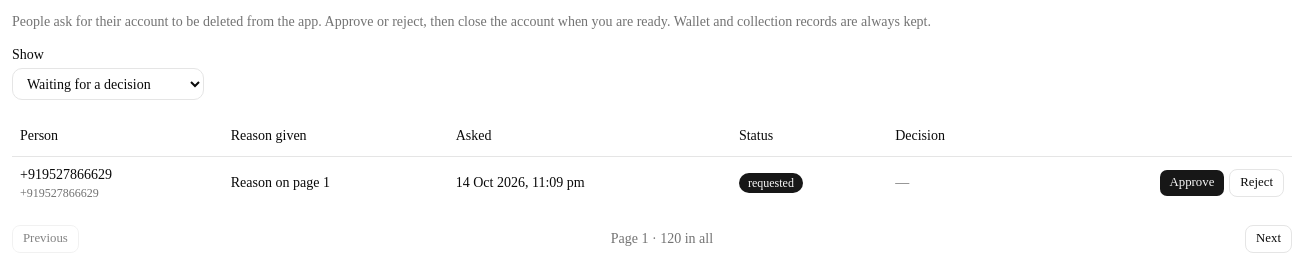
Test: DeletionTab paging › shows the first page and can go forward and back through the queue
The image size is (1304, 273).
Expected: the text "Reason on page 1" is shown, [223,156,448,208]
Expected: the button "Previous" is disabled, [12,224,79,252]
What coordinates should you click on to do the following:
click the button "Next"
I would click on:
 (1269, 238)
Its box is [1245,224,1292,252].
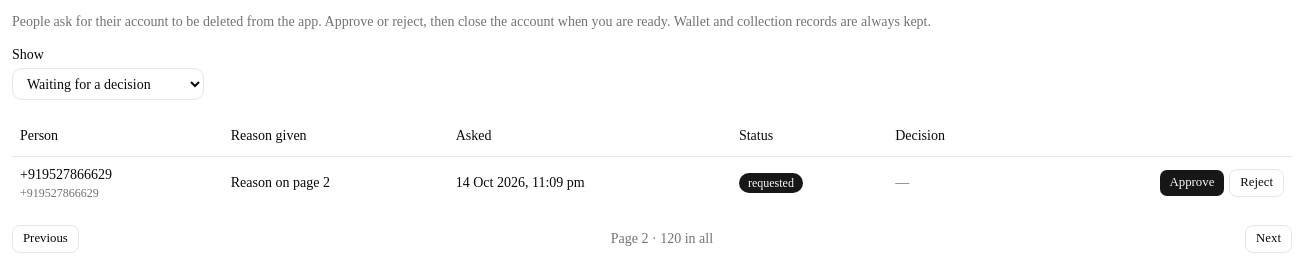
Now the text "Reason on page 2" is shown, box [223,156,448,208]
What coordinates should you click on to do the following:
click the button "Next"
I would click on:
 (1269, 238)
Its box is [1245,224,1292,252].
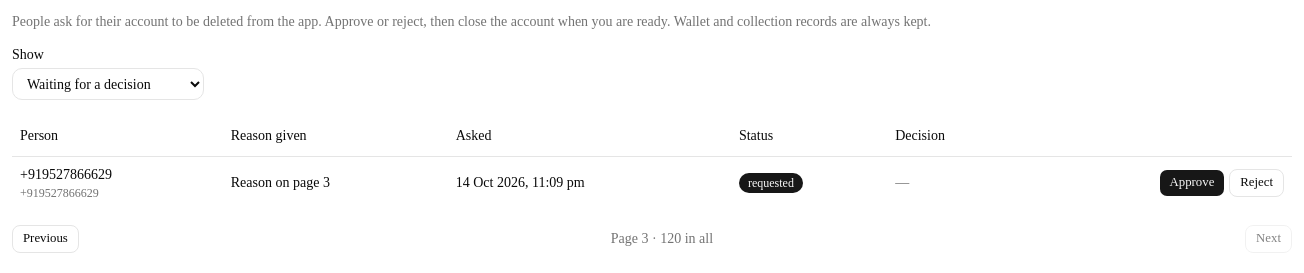
Now the text "Reason on page 3" is shown, box [223,156,448,208]
Now the button "Next" is disabled, box [1245,224,1292,252]
What coordinates should you click on to do the following:
click the button "Previous"
I would click on:
 (45, 238)
Its box is [12,224,79,252].
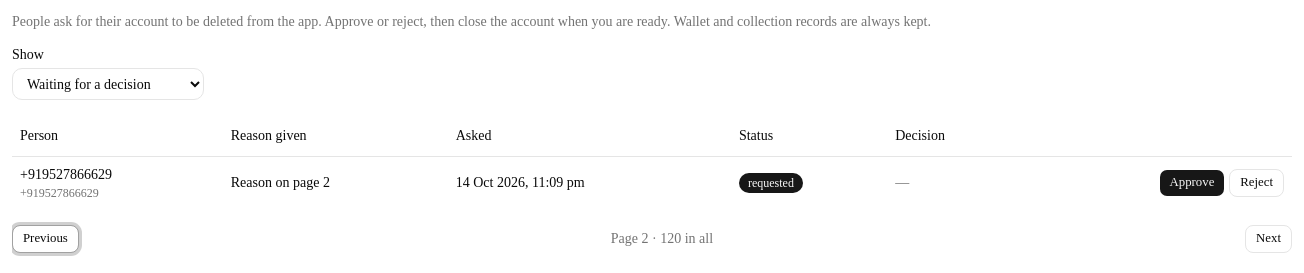
Now the text "Reason on page 2" is shown, box [223,156,448,208]
